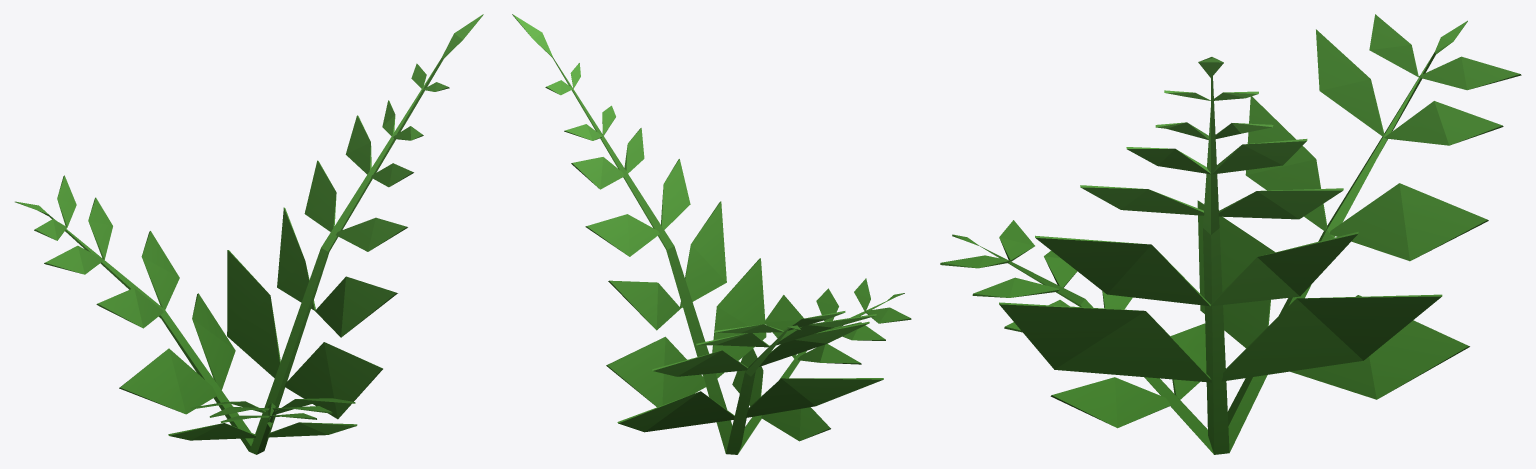
Rendered from plant_ferny.fbx.
3 renders of one model, left to right at view 1: azimuth 30°, elevation 25°; view 2: azimuth 150°, elevation 25°; view 3: azimuth 270°, elevation 25°, orthographic. The views are drawn at different scales.
Visible parts, largest first — view 1: plant_ferny; view 2: plant_ferny; view 3: plant_ferny.
Boxes of the visible parts, bbox=[...] form: plant_ferny: bbox=[15, 14, 483, 454]; plant_ferny: bbox=[512, 14, 911, 454]; plant_ferny: bbox=[940, 14, 1521, 454].
Size of the model in its own units: 1.84 by 1.67 by 1.6.
Materials: 1 (1 with a texture image).
